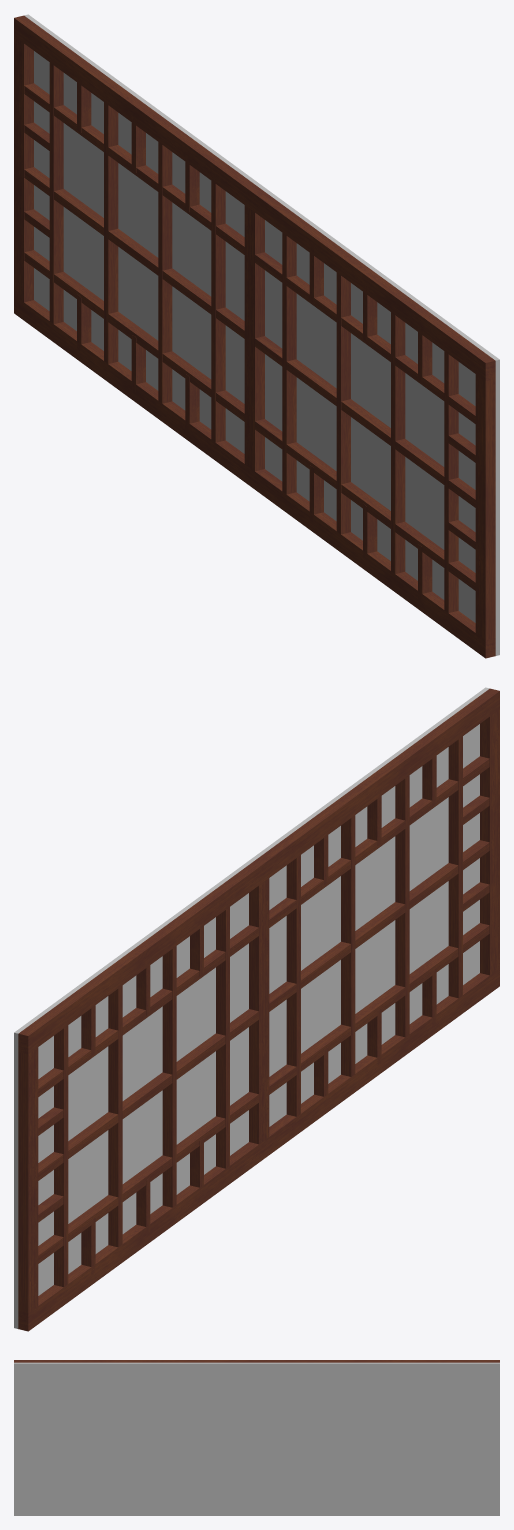
File: SM_Window07C.fbx
The picture shows the model from 3 angles, top to bottom: view 1: azimuth 30°, elevation 25°; view 2: azimuth 150°, elevation 25°; view 3: azimuth 270°, elevation 25°; orthographic projection. The views are drawn at different scales.
Visible parts, largest first — view 1: SM_Window07C; view 2: SM_Window07C; view 3: SM_Window07C.
Part boxes in pixels (bbox=[...]): SM_Window07C: bbox=[14, 14, 499, 658]; SM_Window07C: bbox=[14, 687, 499, 1331]; SM_Window07C: bbox=[14, 1360, 499, 1515].
Size of the model in its own units: 3.64 by 207 by 71.52.
2 materials, 1 textured.
